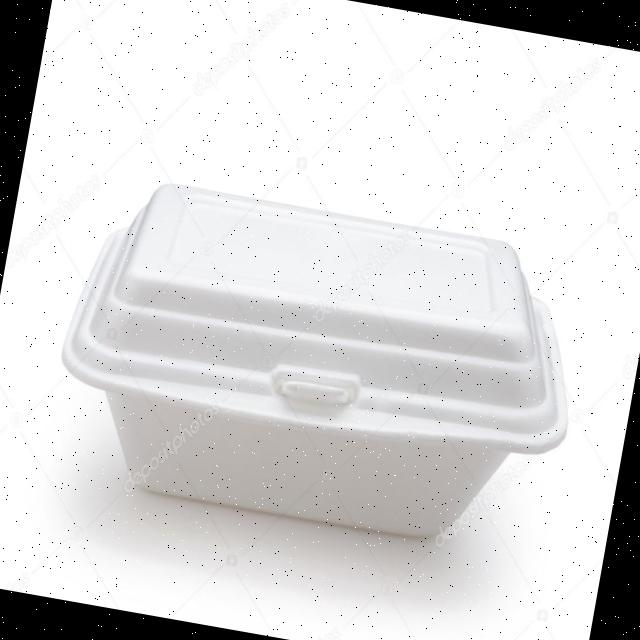styrofoam: (39, 165, 598, 565)
